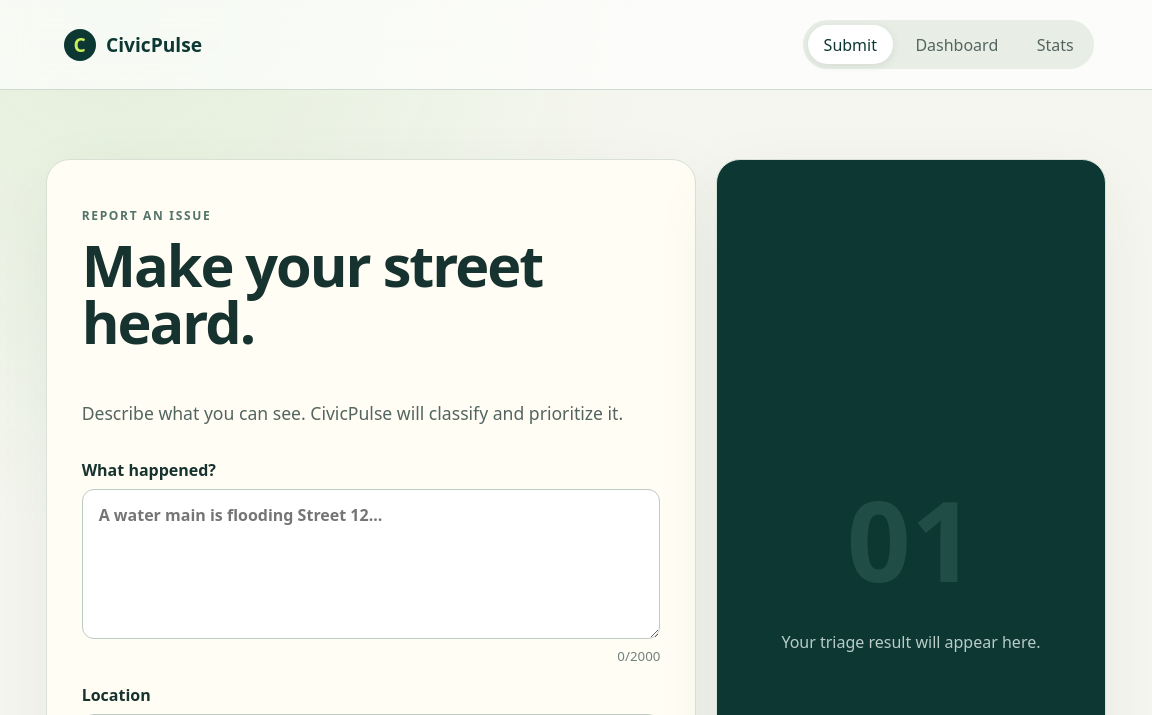
Test case: CivicPulse › shows an honest loading message
In the text box labelled "What happened?": {"x": 371, "y": 564} [82, 489, 660, 639], type "Water main is flooding the street"
(page scrolled)
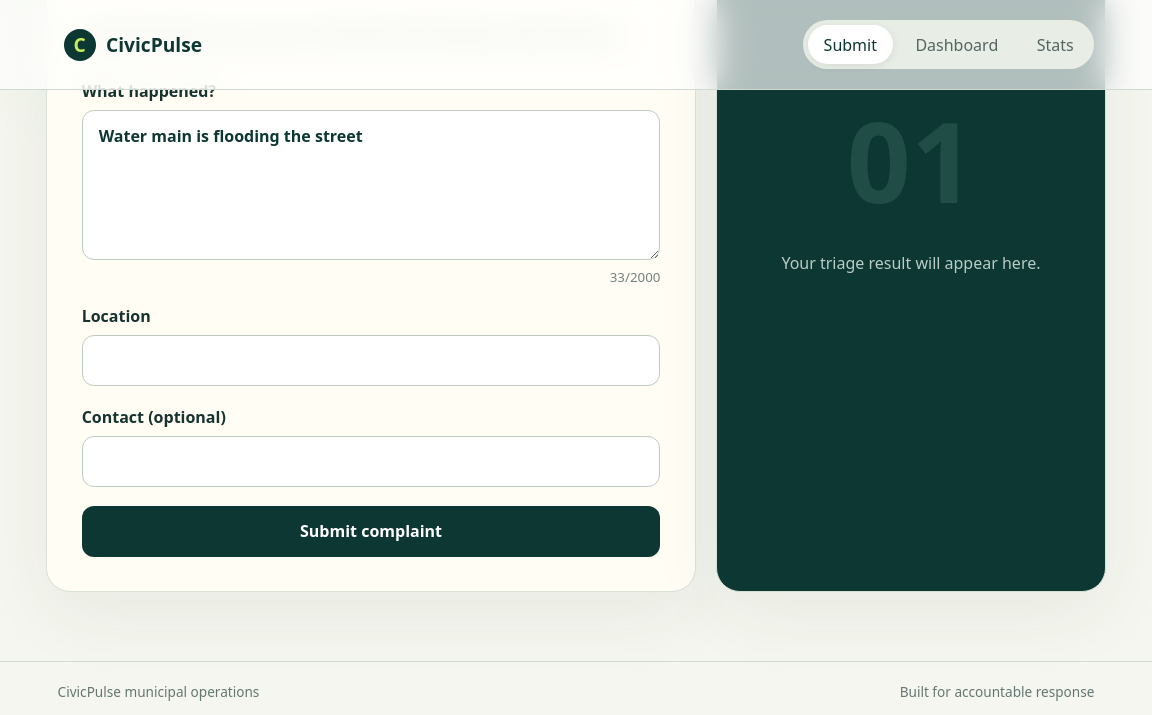
In the field labelled "Location": {"x": 371, "y": 361} [82, 335, 660, 386], type "Street 12"
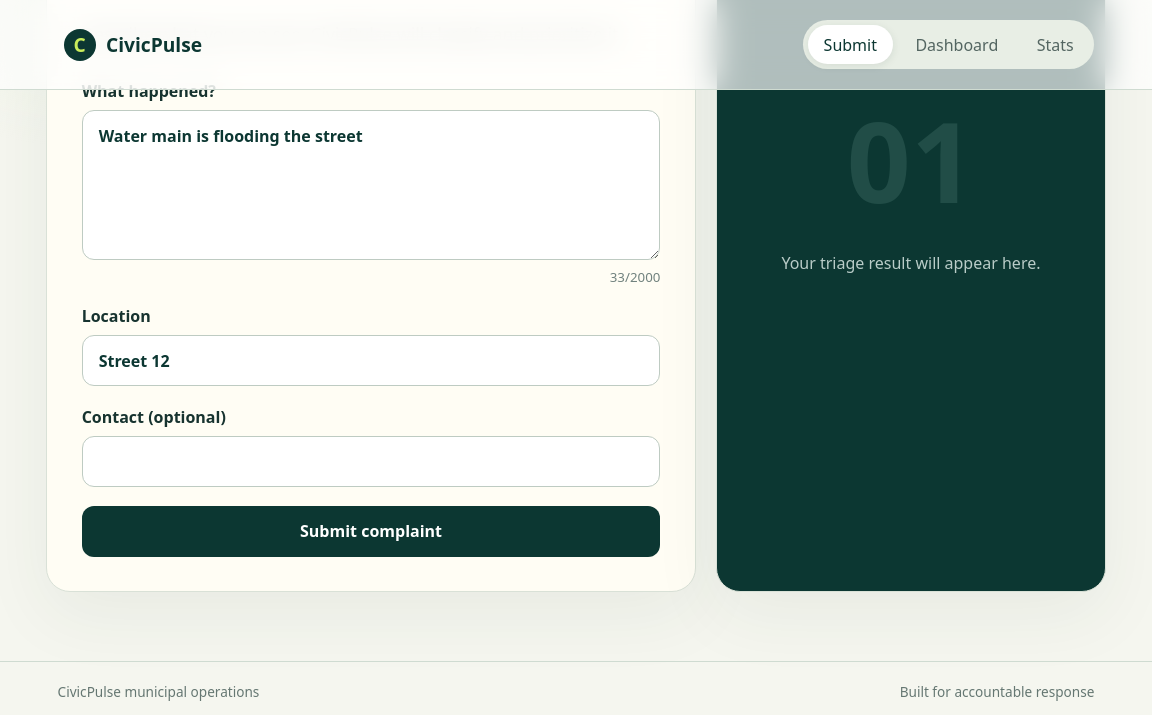
Click the button "Submit complaint": {"x": 371, "y": 531} [82, 506, 660, 557]
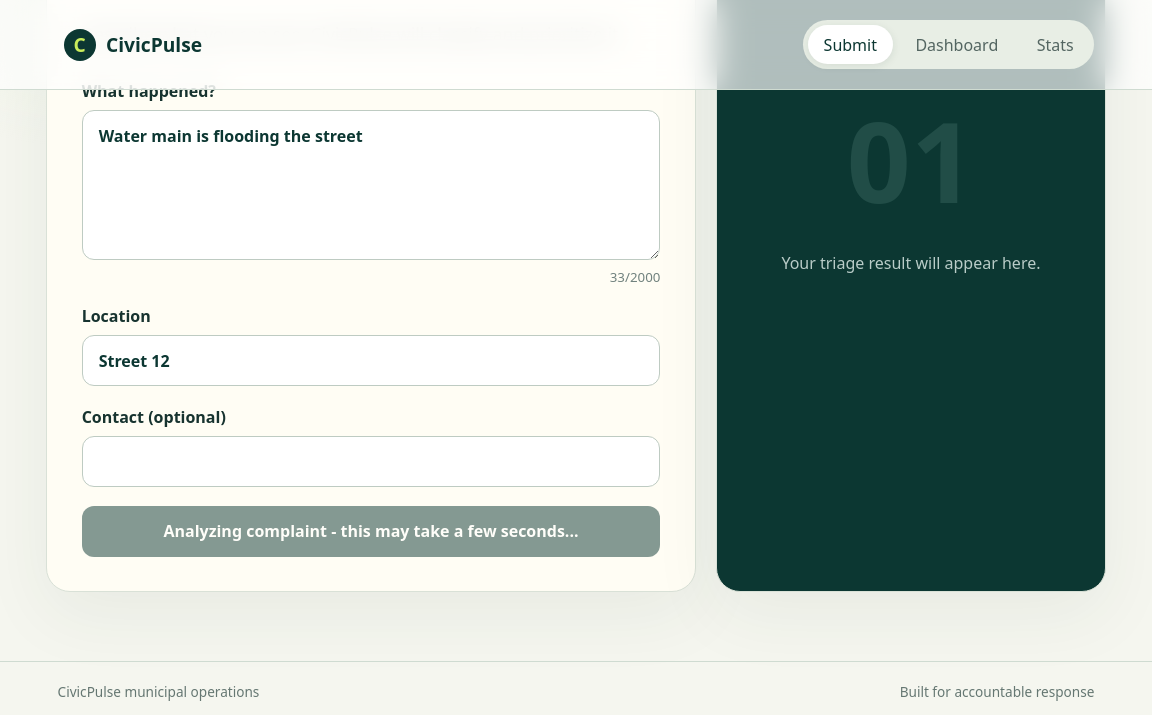
Expected: the button "Analyzing complaint - this may take a few seconds..." is disabled, [82, 506, 660, 557]
